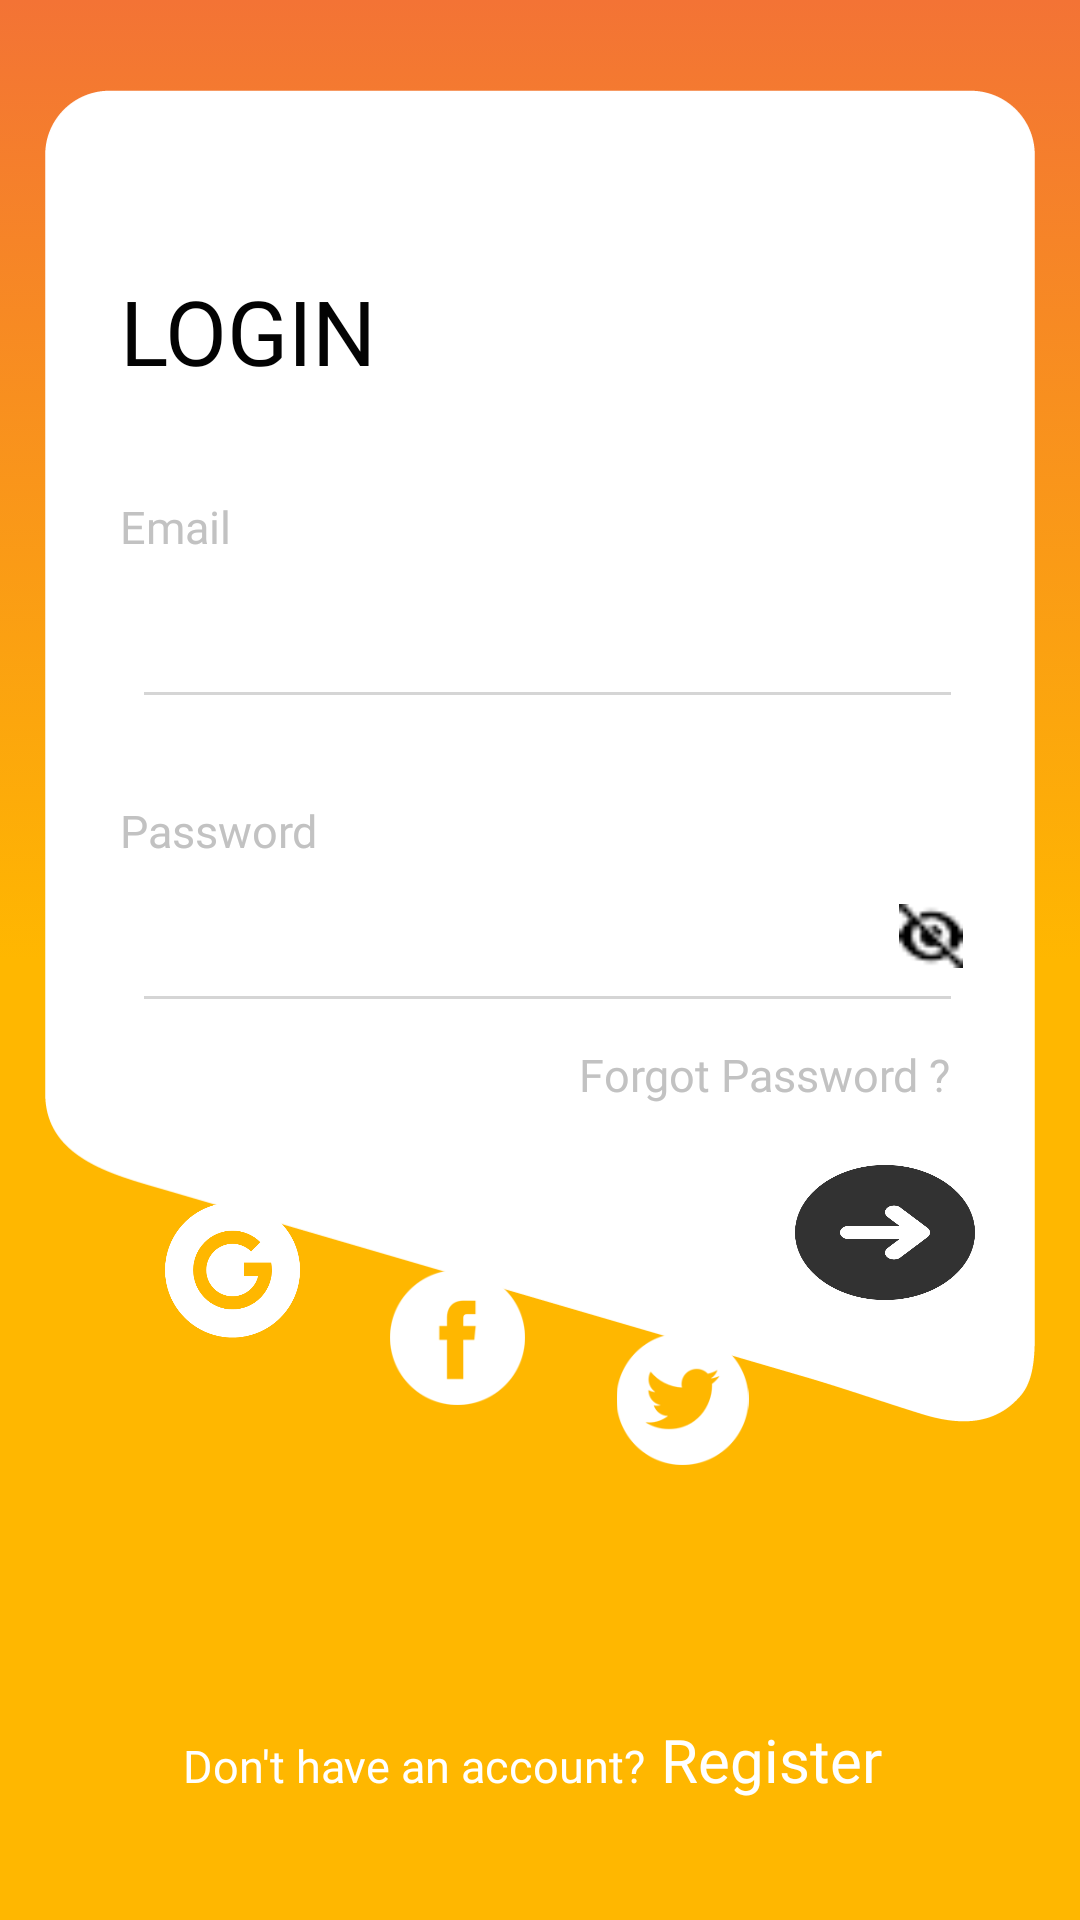

Icons on this 1080px×1920px Android screen, each with its box as (x1, y1, x2, y2):
Proceed: (795, 1165, 975, 1300)
Toggle Password: (899, 904, 963, 968)
